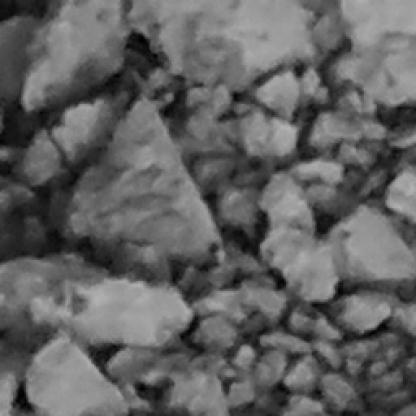cementitious_debris: (98, 50, 414, 414)
